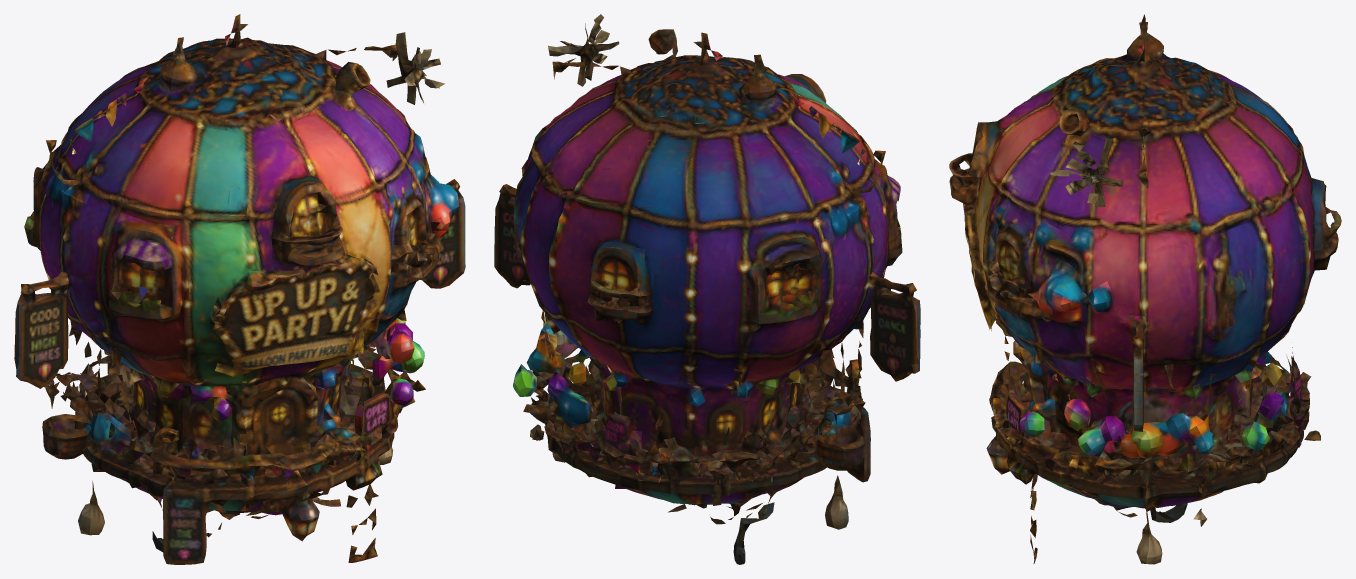
Rendered from up_up_balloon.glb.
3 renders of one model, left to right at view 1: azimuth 30°, elevation 25°; view 2: azimuth 150°, elevation 25°; view 3: azimuth 270°, elevation 25°, orthographic. The views are drawn at different scales.
Parts seen in each view (by area): view 1: output; view 2: output; view 3: output.
Boxes of the visible parts, x1,y1,x2,y2 form: output: (14,14,465,564); output: (494,14,920,564); output: (949,14,1341,564).
Bounding box in the file's own units: 1.74 × 2 × 1.39.
1 material, 1 textured.
